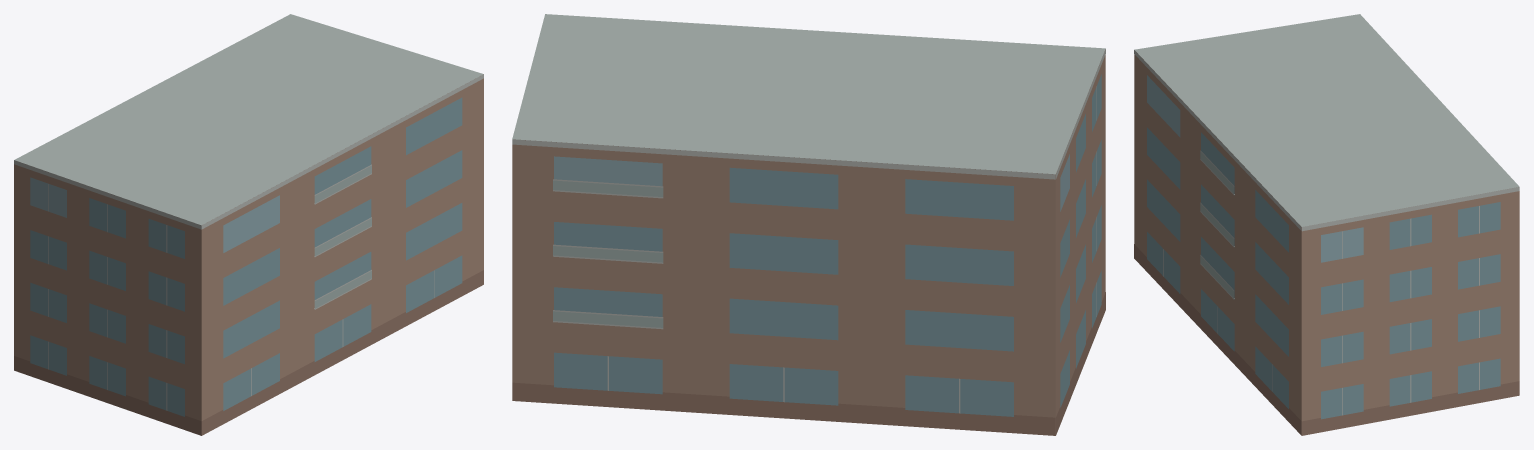
Rendered from survey-upis-32864744.glb.
3 renders of one model, left to right at view 1: azimuth 30°, elevation 25°; view 2: azimuth 150°, elevation 25°; view 3: azimuth 270°, elevation 25°, orthographic. The views are drawn at different scales.
Parts seen in each view (by area): view 1: survey-upis-32864744.tmp; view 2: survey-upis-32864744.tmp; view 3: survey-upis-32864744.tmp.
Part boxes in pixels (box(x1,y1,x2,y2)): survey-upis-32864744.tmp: box(14, 14, 483, 435); survey-upis-32864744.tmp: box(512, 14, 1105, 435); survey-upis-32864744.tmp: box(1134, 14, 1519, 435).
Size of the model in its own units: 26.39 by 12.05 by 20.17.
